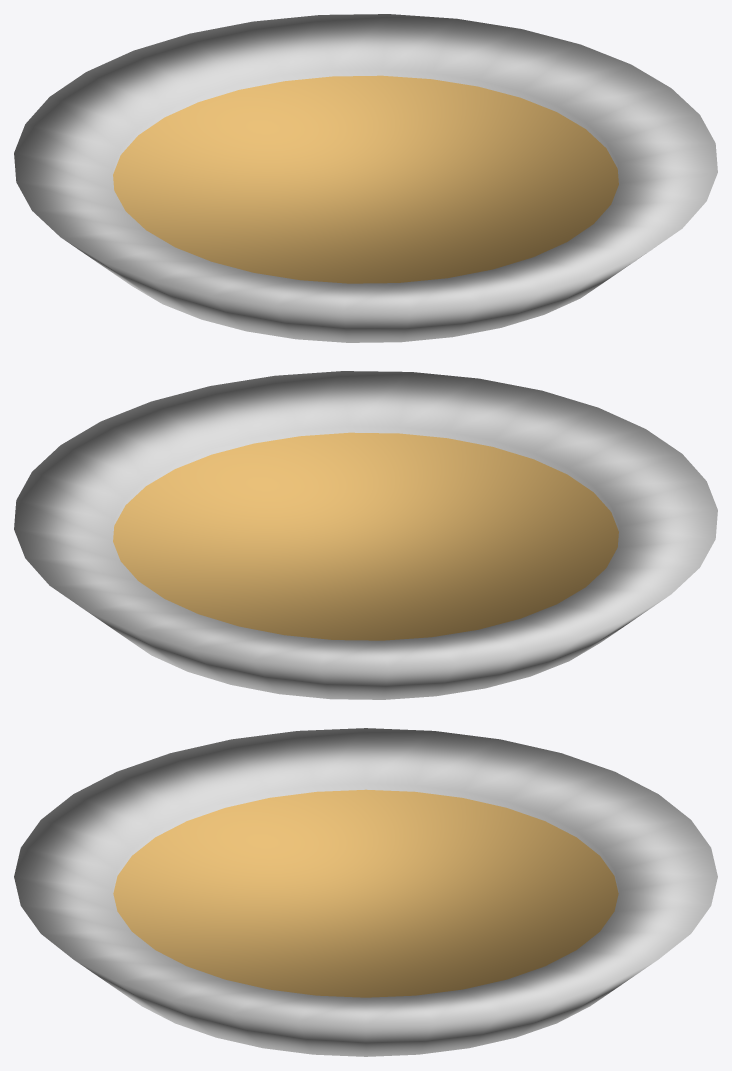
Rendered from MushroomSoup.glb.
3 views of the same model, one above another, from view 1: azimuth 30°, elevation 25°; view 2: azimuth 150°, elevation 25°; view 3: azimuth 270°, elevation 25° (orthographic).
Visible parts, largest first — view 1: Cylinder.016; view 2: Cylinder.016; view 3: Cylinder.016.
Part boxes in pixels (x1=…): Cylinder.016: x1=14, y1=14, x2=717, y2=342; Cylinder.016: x1=14, y1=371, x2=717, y2=699; Cylinder.016: x1=14, y1=728, x2=717, y2=1056.
Bounding box in the file's own units: 0.7602 × 0.0786 × 0.7602.
